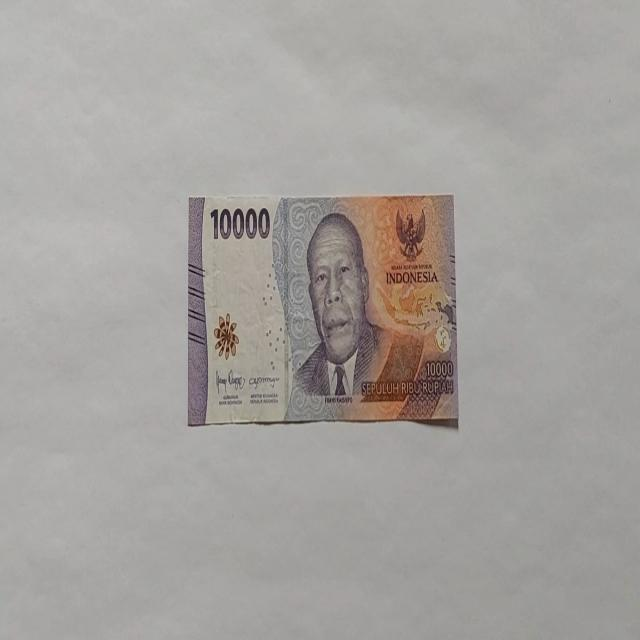sepuluh ribu rupiah: (187, 192, 459, 428), (283, 210, 425, 420)
